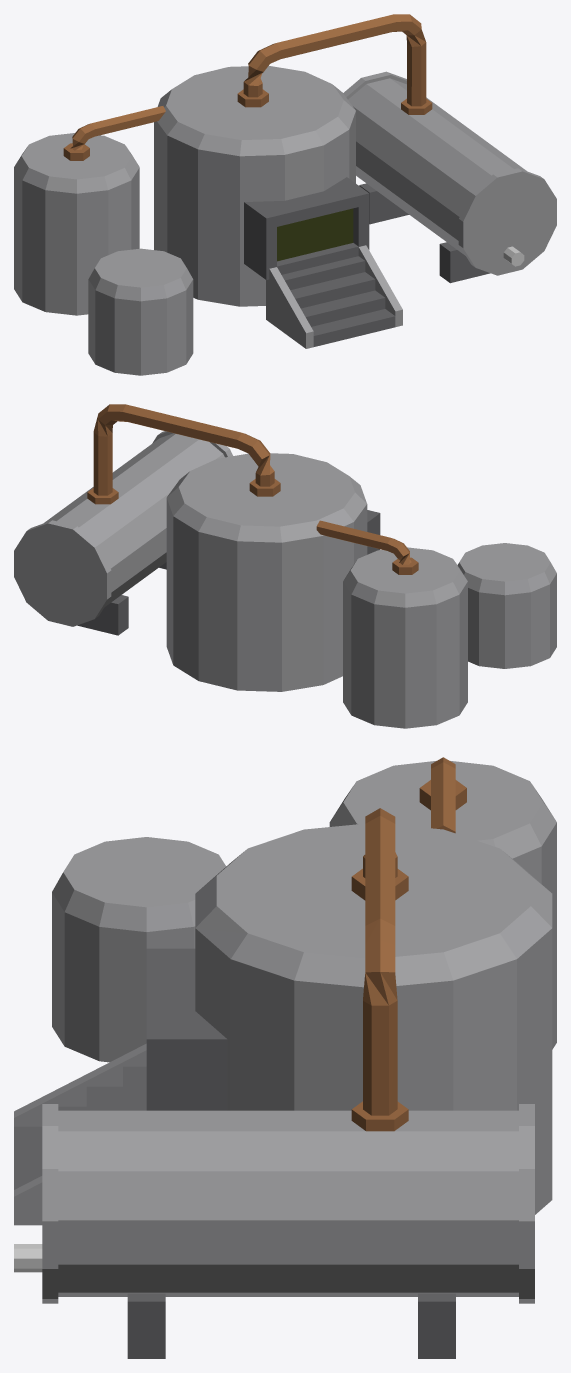
The model's file is biofuel_refinery.obj.
The picture shows the model from 3 angles, top to bottom: view 1: azimuth 30°, elevation 25°; view 2: azimuth 150°, elevation 25°; view 3: azimuth 270°, elevation 25°; orthographic projection. The views are drawn at different scales.
Visible parts, largest first — view 1: biofuel_refinery_0, biofuel_refinery_12, biofuel_refinery_16, biofuel_refinery_13, biofuel_refinery_17, biofuel_refinery_24, biofuel_refinery_5, biofuel_refinery_3, biofuel_refinery_1, biofuel_refinery_10, biofuel_refinery_6, biofuel_refinery_8 (+9 smaller); view 2: biofuel_refinery_0, biofuel_refinery_12, biofuel_refinery_16, biofuel_refinery_13, biofuel_refinery_18, biofuel_refinery_24, biofuel_refinery_15, biofuel_refinery_20; view 3: biofuel_refinery_0, biofuel_refinery_16, biofuel_refinery_13, biofuel_refinery_12, biofuel_refinery_24, biofuel_refinery_2, biofuel_refinery_3, biofuel_refinery_17, biofuel_refinery_18, biofuel_refinery_10, biofuel_refinery_19, biofuel_refinery_20 (+7 smaller).
Part boxes in pixels (x1,y1,x2,y2): biofuel_refinery_0: (154, 66, 355, 306); biofuel_refinery_12: (14, 133, 139, 315); biofuel_refinery_16: (348, 78, 526, 255); biofuel_refinery_13: (88, 248, 193, 375); biofuel_refinery_17: (458, 168, 556, 275); biofuel_refinery_24: (243, 14, 426, 106); biofuel_refinery_5: (277, 208, 353, 261); biofuel_refinery_3: (244, 177, 369, 226); biofuel_refinery_1: (244, 201, 276, 279); biofuel_refinery_10: (266, 267, 313, 348); biofuel_refinery_6: (311, 309, 395, 346); biofuel_refinery_8: (290, 272, 375, 308); biofuel_refinery_0: (166, 453, 367, 691); biofuel_refinery_12: (343, 547, 467, 728); biofuel_refinery_16: (44, 433, 224, 606); biofuel_refinery_13: (457, 543, 556, 668); biofuel_refinery_18: (14, 520, 111, 626); biofuel_refinery_24: (93, 404, 274, 495); biofuel_refinery_15: (316, 520, 411, 564); biofuel_refinery_20: (77, 595, 128, 635); biofuel_refinery_0: (195, 823, 552, 1214); biofuel_refinery_16: (58, 1110, 518, 1296); biofuel_refinery_13: (52, 837, 225, 1062); biofuel_refinery_12: (329, 760, 556, 1049); biofuel_refinery_24: (363, 808, 397, 1115); biofuel_refinery_2: (146, 1030, 227, 1110); biofuel_refinery_3: (146, 949, 226, 1058); biofuel_refinery_17: (42, 1104, 58, 1303); biofuel_refinery_18: (519, 1104, 534, 1303); biofuel_refinery_10: (14, 1043, 146, 1126); biofuel_refinery_19: (127, 1293, 165, 1358); biofuel_refinery_20: (418, 1293, 455, 1358).
Size of the model in its own units: 2.86 by 1.35 by 1.72.
